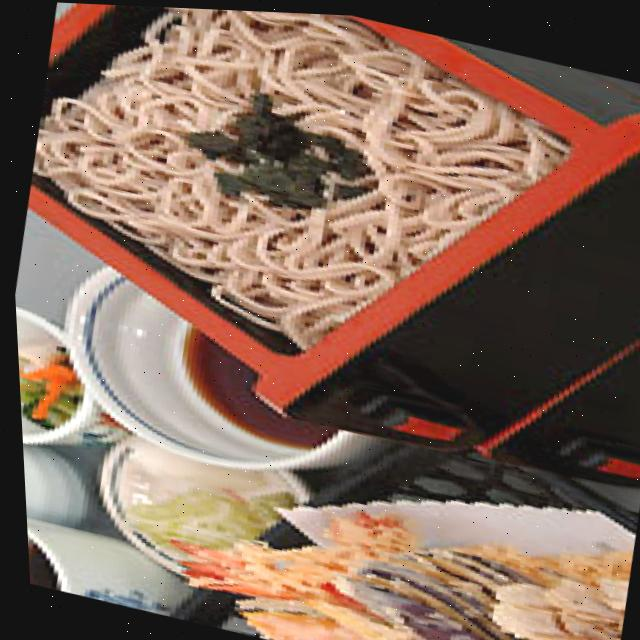面条主食: (0, 0, 640, 495)
